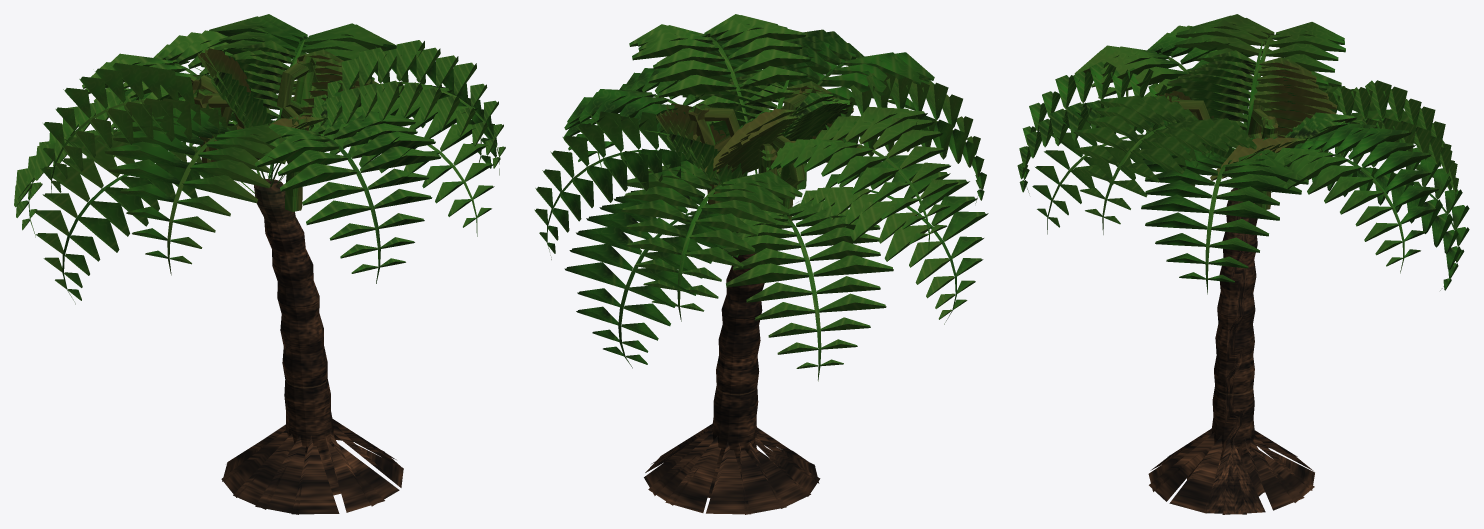
File: Baumfarn_1.fbx
3 views of the same model, side by side, from view 1: azimuth 30°, elevation 25°; view 2: azimuth 150°, elevation 25°; view 3: azimuth 270°, elevation 25° (orthographic). The views are drawn at different scales.
Visible parts, largest first — view 1: Baumfarn_1; view 2: Baumfarn_1; view 3: Baumfarn_1.
Boxes of the visible parts, x1,y1,x2,y2 form: Baumfarn_1: (14,14,505,514); Baumfarn_1: (534,14,988,514); Baumfarn_1: (1017,14,1469,514).
Bounding box in the file's own units: 2.2 × 2.19 × 2.27.
Materials: 2 (2 with a texture image).
